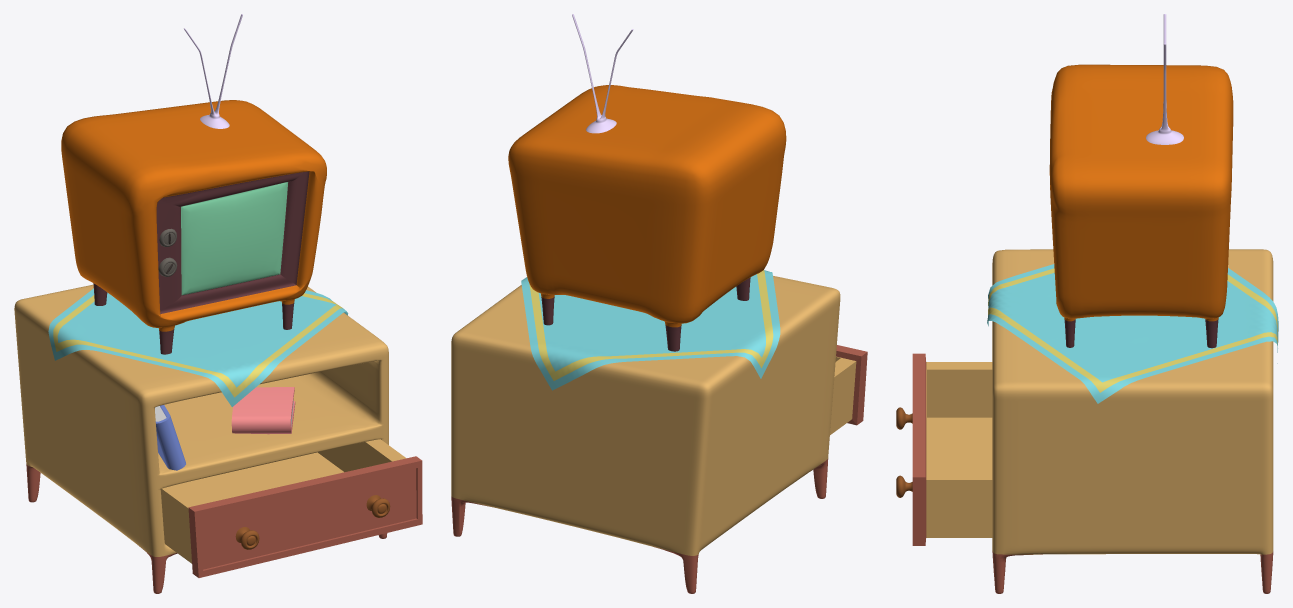
The model's file is TV Stand.fbx.
The picture shows the model from 3 angles, left to right: view 1: azimuth 30°, elevation 25°; view 2: azimuth 150°, elevation 25°; view 3: azimuth 270°, elevation 25°; orthographic projection. The views are drawn at different scales.
Visible parts, largest first — view 1: Tv, Nightstand, Drawer, Map, Book.001, Book.002; view 2: Nightstand, Tv, Map, Drawer; view 3: Nightstand, Tv, Map, Drawer.
Part boxes in pixels (x1=…): Tv: x1=61, y1=14, x2=326, y2=354; Nightstand: x1=14, y1=284, x2=388, y2=593; Drawer: x1=161, y1=439, x2=422, y2=577; Map: x1=48, y1=288, x2=348, y2=406; Book.001: x1=231, y1=387, x2=295, y2=434; Book.002: x1=155, y1=405, x2=185, y2=470; Nightstand: x1=451, y1=276, x2=840, y2=593; Tv: x1=508, y1=14, x2=786, y2=351; Map: x1=521, y1=270, x2=780, y2=390; Drawer: x1=830, y1=345, x2=867, y2=434; Nightstand: x1=992, y1=249, x2=1273, y2=593; Tv: x1=1049, y1=14, x2=1233, y2=348; Map: x1=987, y1=264, x2=1278, y2=403; Drawer: x1=896, y1=353, x2=992, y2=545.
Bounding box in the file's own units: 339 × 608 × 408.
